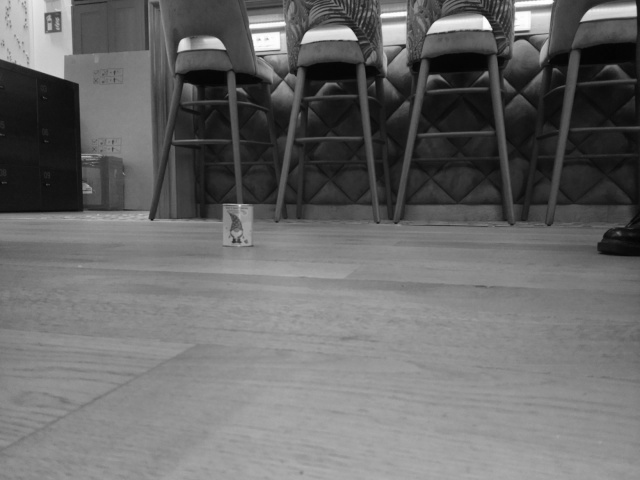gnome: (225, 211, 248, 245)
